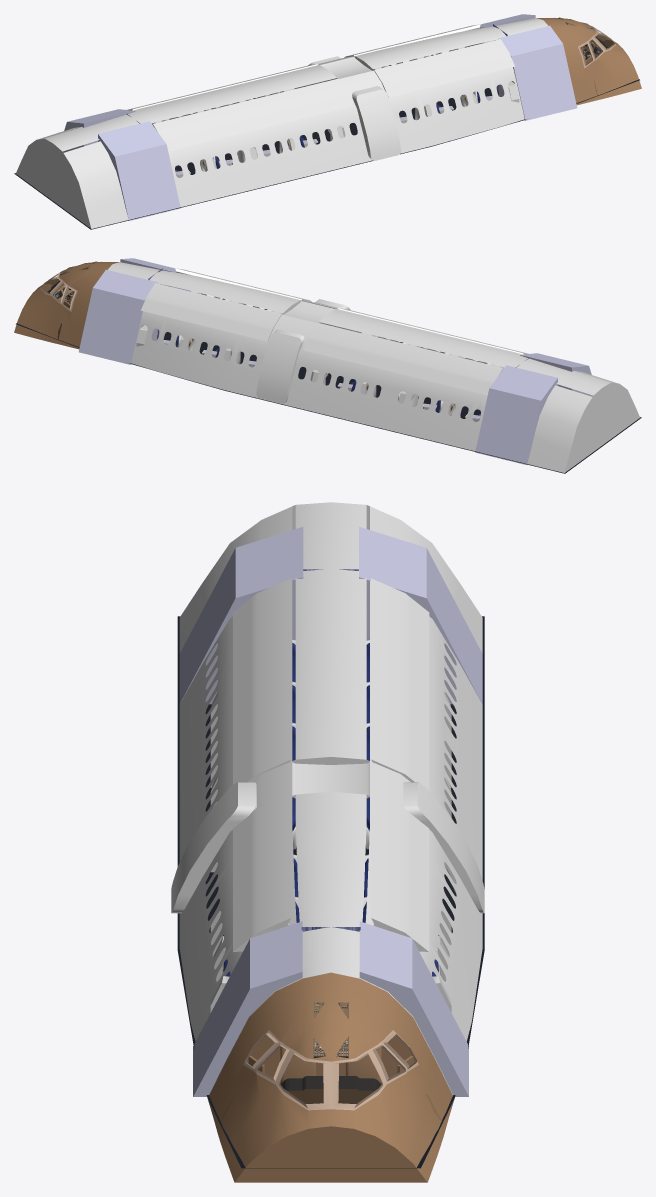
File: cockpit0.gltf
3 renders of one model, top to bottom at view 1: azimuth 30°, elevation 25°; view 2: azimuth 150°, elevation 25°; view 3: azimuth 270°, elevation 25°, orthographic. The views are drawn at different scales.
Visible parts, largest first — view 1: Cylinder_4, Cube055, Cube004, Cube003, Cube059, Cylinder_1, Cube, Plane, Cube001_1, Cylinder_3, Cube055_1; view 2: Cylinder_4, Cube055, Cube004, Cube003, Cube059, Cylinder_1, Cube, Plane, Cube001_1, Cylinder_3, Cube055_1; view 3: Cylinder_4, Cylinder_1, Cube055, Cube003, Cube059, Cube004, Cube, Plane, Cylinder_3, Cube001_1, Cube012, Cube001_3 (+1 smaller).
Part boxes in pixels (x1,y1,x2,y2): Cylinder_4: (16,18,547,229); Cube055: (127,64,352,151); Cube004: (63,109,180,220); Cube003: (465,14,577,120); Cube059: (344,24,514,97); Cylinder_1: (537,17,641,105); Cube: (300,56,401,160); Plane: (14,56,639,229); Cube001_1: (152,47,519,177); Cylinder_3: (578,25,615,68); Cube055_1: (132,64,318,110); Cylinder_4: (108,262,639,473); Cube055: (303,308,528,395); Cube004: (475,353,592,464); Cube003: (78,258,190,364); Cube059: (141,268,311,341); Cylinder_1: (14,261,118,349); Cube: (256,299,355,403); Plane: (16,300,641,473); Cube001_1: (136,291,503,421); Cylinder_3: (40,269,77,312); Cube055_1: (337,308,523,354); Cylinder_4: (179,502,482,1094); Cylinder_1: (208,972,454,1182); Cube055: (233,578,429,790); Cube003: (193,921,468,1096); Cube059: (233,794,429,951); Cube004: (179,526,482,704); Cube: (171,782,484,913); Plane: (177,616,484,1168); Cylinder_3: (243,1030,418,1110); Cube001_1: (210,639,451,1012); Cube012: (220,1076,441,1121); Cube001_3: (223,643,439,976).
Bounding box in the file's own units: 21.84 × 2.65 × 5.24.
16 materials, 4 textured.
